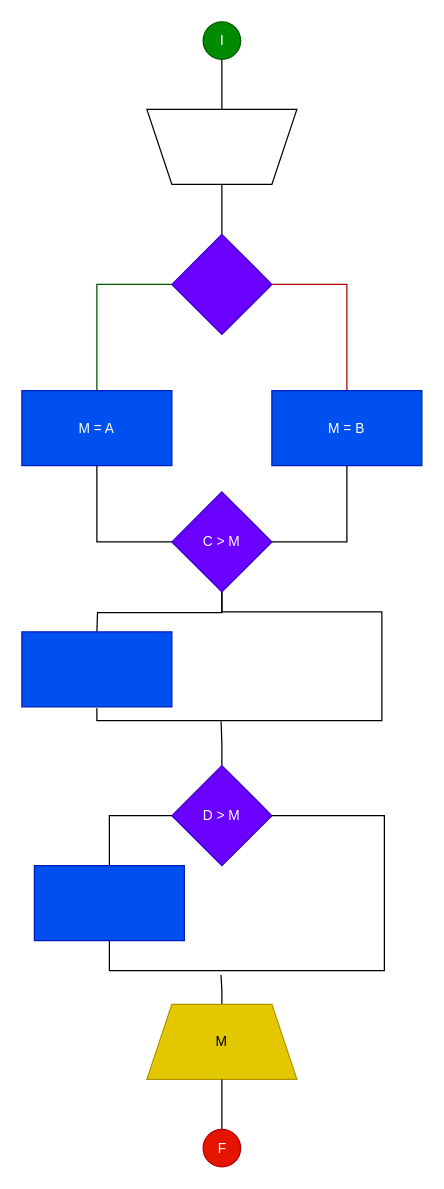
The diagram is 444 pixels wide and 1189 high, and some of its shapes have lost their labels. The centre of each missing label's shape, as x and y in pixels:
A , B , C , D: (x=221, y=146)
A > B: (x=221, y=283)
M = C: (x=96, y=669)
M = D: (x=108, y=902)
